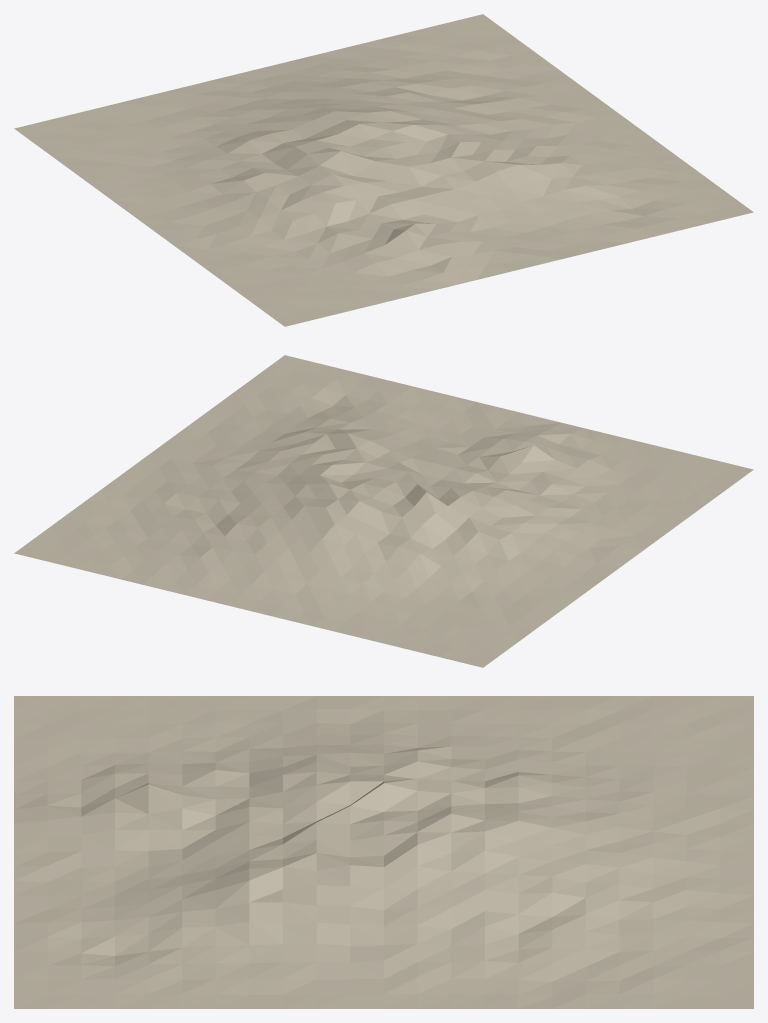
Rendered from Ground_s_06.fbx.
3 renders of one model, top to bottom at view 1: azimuth 30°, elevation 25°; view 2: azimuth 150°, elevation 25°; view 3: azimuth 270°, elevation 25°, orthographic. The views are drawn at different scales.
Parts seen in each view (by area): view 1: Ground_s_06; view 2: Ground_s_06; view 3: Ground_s_06.
Part boxes in pixels (bbox=[...]): Ground_s_06: bbox=[14, 14, 753, 326]; Ground_s_06: bbox=[14, 355, 753, 667]; Ground_s_06: bbox=[14, 696, 753, 1008].
Bounding box in the file's own units: 5000 × 335 × 5000.
